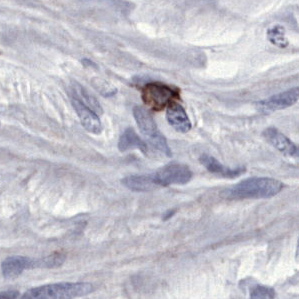Lymphocyte: (140, 80, 180, 113)
